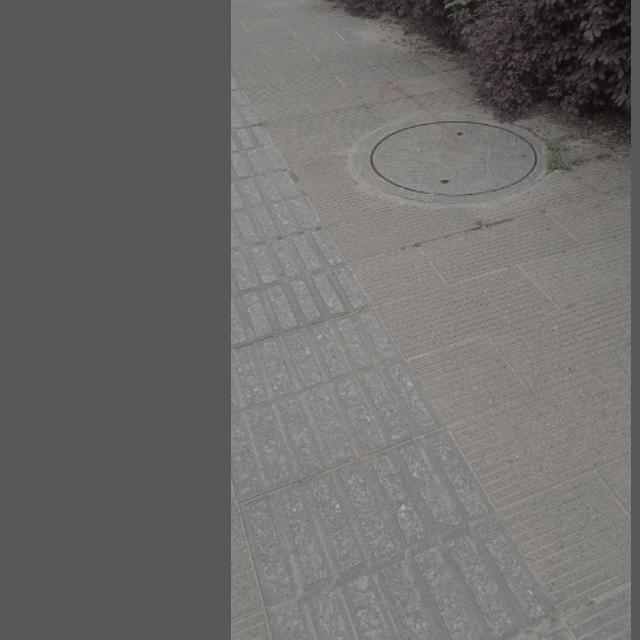good: (354, 112, 545, 198)
